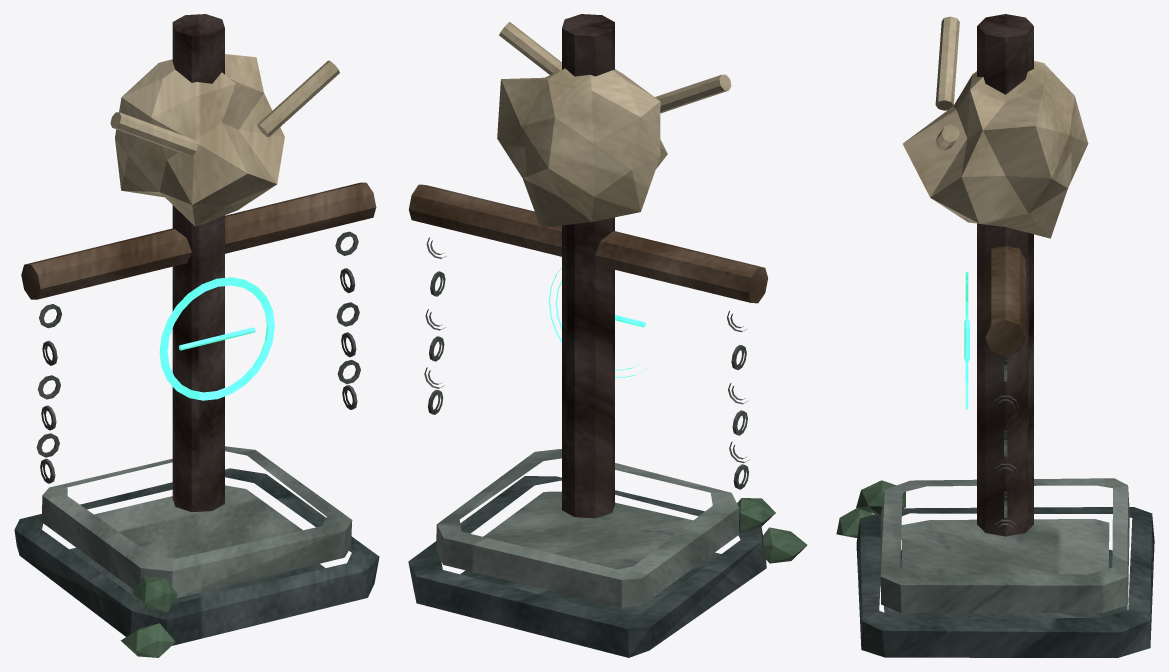
The model's file is 0514_effigy_14.glb.
3 views of the same model, side by side, from view 1: azimuth 30°, elevation 25°; view 2: azimuth 150°, elevation 25°; view 3: azimuth 270°, elevation 25° (orthographic). The views are drawn at different scales.
Visible parts, largest first — view 1: bone, stone, stone_dark, wood_dark, wood, glow, iron, moss; view 2: stone, bone, stone_dark, wood_dark, wood, iron, moss; view 3: stone, bone, stone_dark, wood_dark, wood, moss, glow, iron.
Boxes of the visible parts, box(x1,y1,x2,y2) form: bone: box(110, 54, 339, 226); stone: box(42, 446, 352, 598); stone_dark: box(14, 468, 379, 645); wood_dark: box(172, 14, 224, 512); wood: box(21, 182, 376, 299); glow: box(159, 277, 274, 400); iron: box(36, 231, 360, 483); moss: box(121, 576, 177, 657); stone: box(436, 449, 739, 607); bone: box(497, 22, 731, 227); stone_dark: box(408, 476, 766, 657); wood_dark: box(562, 14, 614, 518); wood: box(408, 184, 768, 303); iron: box(424, 237, 748, 489); moss: box(737, 498, 807, 563); stone: box(880, 478, 1129, 613); bone: box(903, 16, 1088, 238); stone_dark: box(856, 507, 1154, 657); wood_dark: box(977, 14, 1033, 536); wood: box(985, 246, 1025, 356); moss: box(836, 480, 905, 537); glow: box(964, 272, 969, 409); iron: box(992, 356, 1018, 532).
Bounding box in the file's own units: 2 × 3.13 × 1.57.
8 materials, 8 textured.
